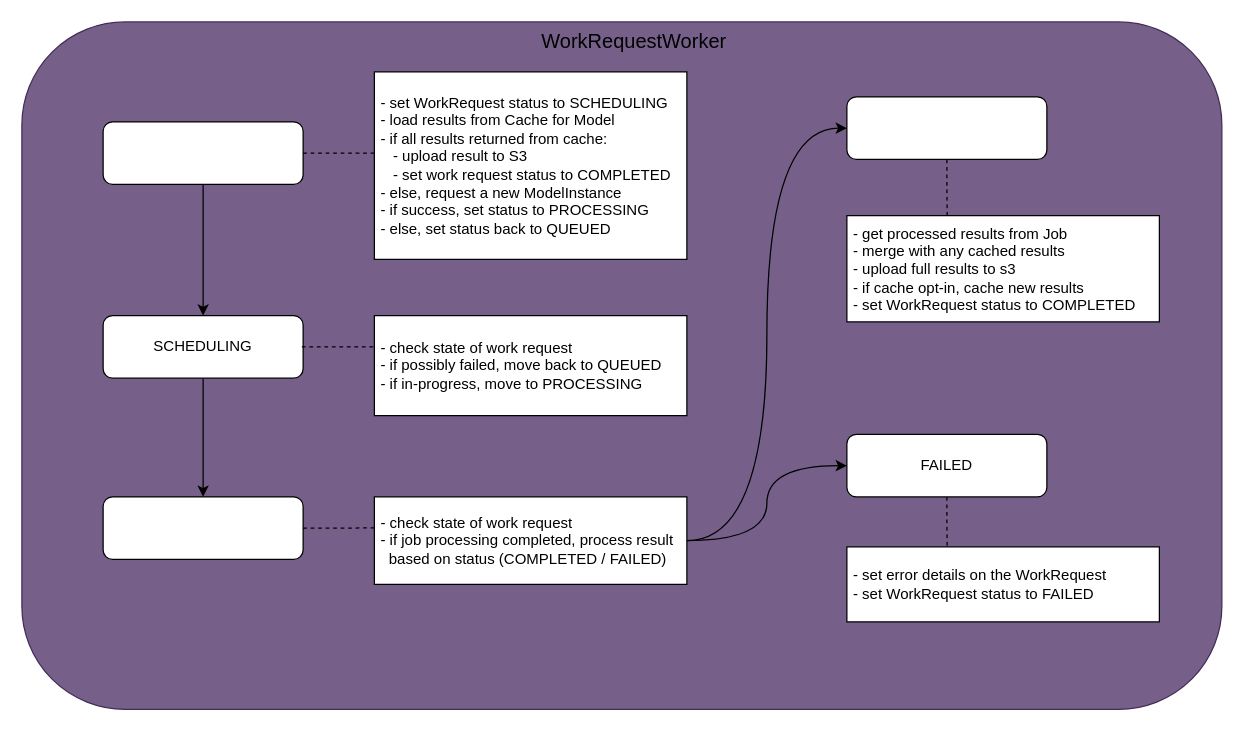
The diagram is 1244 pixels wide and 731 high, and some of its shapes have lost their labels. The shapes that lost their labels are listed below. From the top down, each one's box as (x1, y1, x2, y2) in pixels, then its label:
(846, 96, 1047, 159): COMPLETED
(102, 121, 303, 184): QUEUED
(102, 496, 303, 559): PROCESSING
